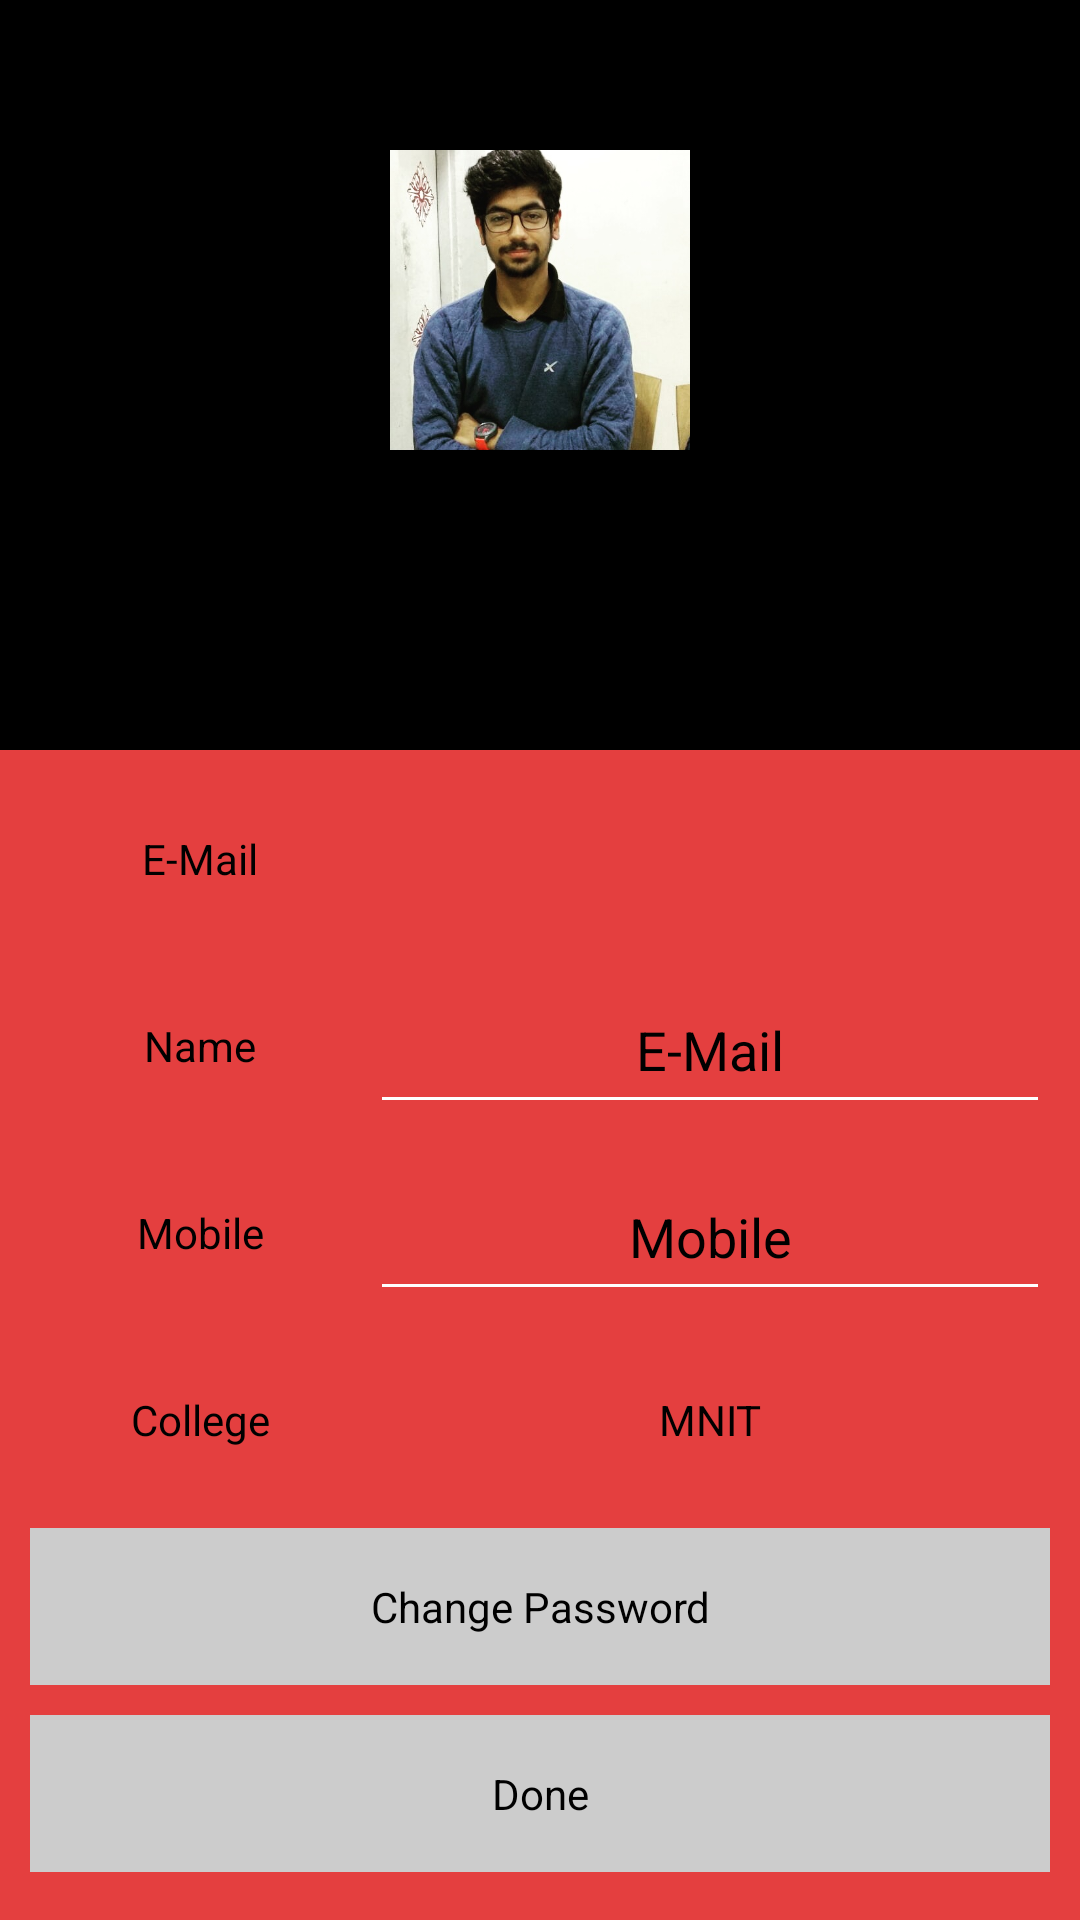

Screen size 1080px×1920px. Icon name, then its box in pixels as (x1, y1, x2, y2):
photo: (390, 150, 690, 450)
